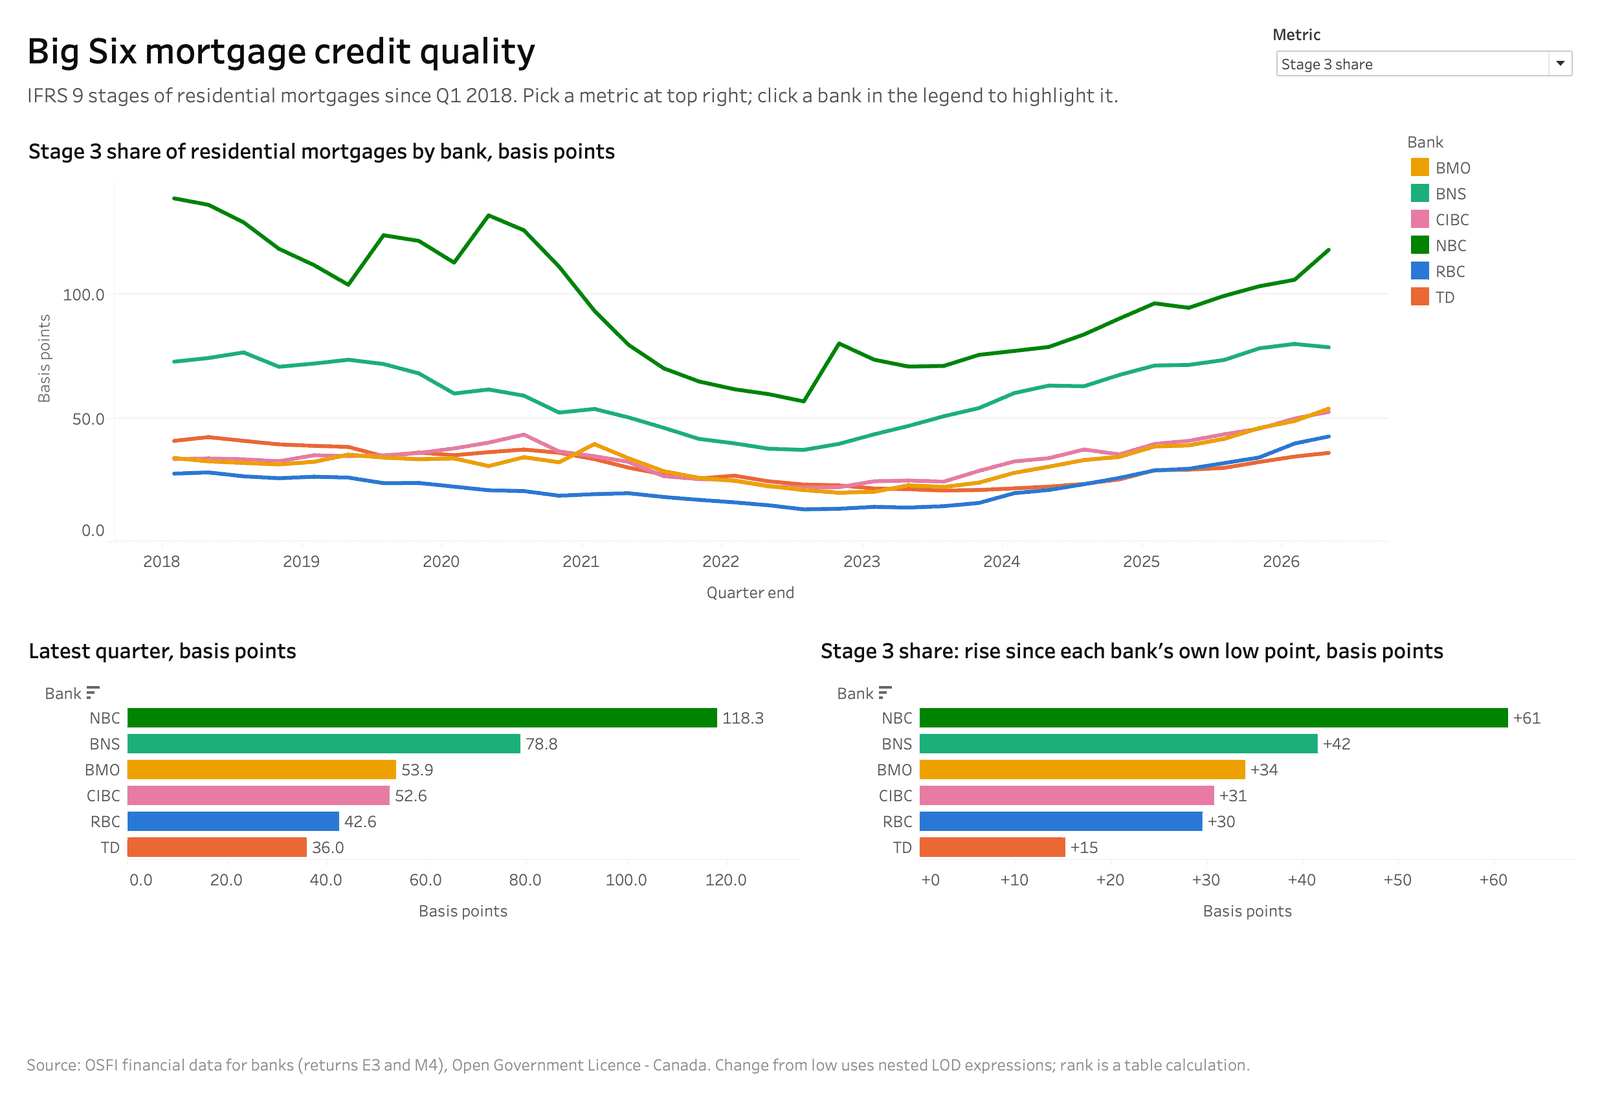

What the dashboard file says about the page in this screenshot:
{"tool":"tableau","page":{"name":"Credit quality","canvas":[1200,820],"ordinal":0},"visuals":[{"type":"text","box":[24,16,900,40]},{"type":"parameter","param":"[Parameters].[Parameter 1]","box":[950,16,226,60]},{"type":"text","box":[24,56,900,28]},{"type":"worksheet","title":"Metric trend","mark":"Line","rows":["Calculation_5310000000000000006"],"cols":["quarter_end_date"],"box":[24,96,1012,360]},{"type":"legend","title":"Metric trend","param":"[federated.724s6qlnty481m6s1aln5zs2gs1u].[none:short_name:nk]","box":[1050,96,126,220]},{"type":"worksheet","title":"Latest quarter by bank","mark":"Bar","rows":["short_name"],"cols":["Calculation_5310000000000000006"],"box":[24,470,576,300]},{"type":"worksheet","title":"Change from low","mark":"Bar","rows":["short_name"],"cols":["Calculation_5310000000000000012"],"box":[612,470,564,300]},{"type":"text","box":[24,780,1152,30]}]}

Visuals, with their boxes in screenshot pixels (x1, y1, x2, y2), scaled from the page's 1200x820 canvas onto the 1600x1108 screenshot:
text: <bbox>32, 22, 1232, 76</bbox>
parameter: <bbox>1267, 22, 1568, 103</bbox>
text: <bbox>32, 76, 1232, 114</bbox>
"Metric trend" worksheet (Line marks): <bbox>32, 130, 1381, 616</bbox>
"Metric trend" legend: <bbox>1400, 130, 1568, 427</bbox>
"Latest quarter by bank" worksheet (Bar marks): <bbox>32, 635, 800, 1040</bbox>
"Change from low" worksheet (Bar marks): <bbox>816, 635, 1568, 1040</bbox>
text: <bbox>32, 1054, 1568, 1094</bbox>
